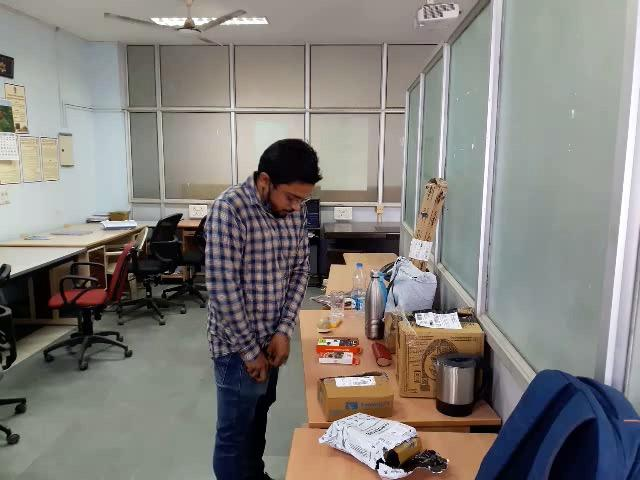shoplifting: (174, 259, 319, 463)
